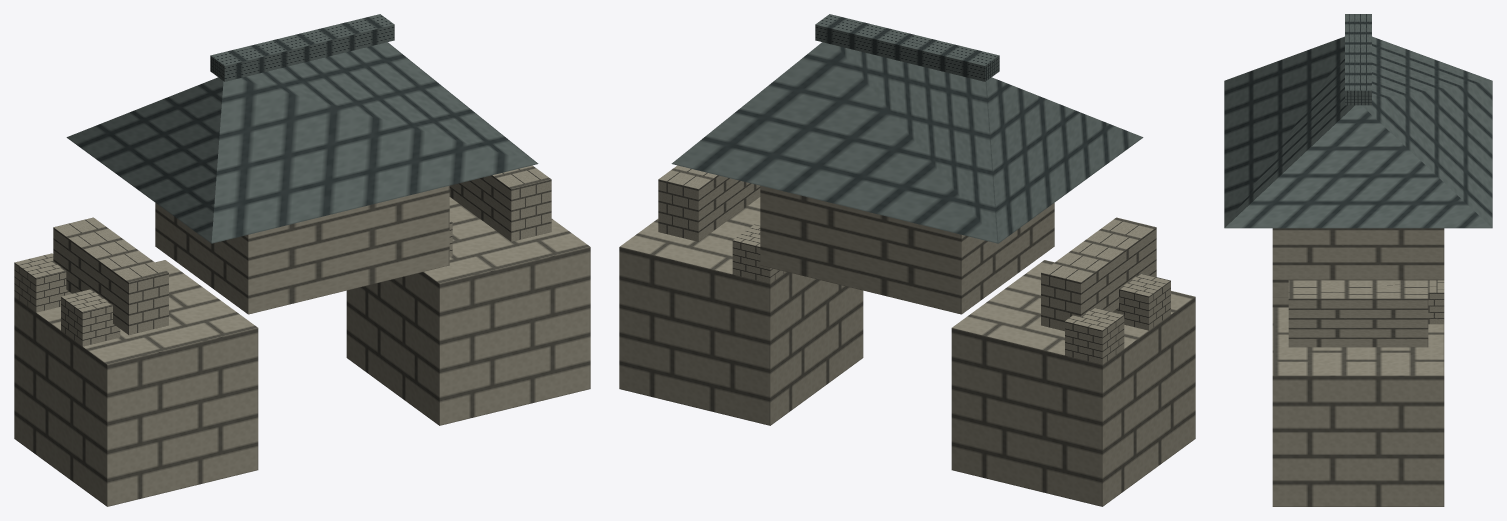
File: gate-lod0.glb
3 renders of one model, left to right at view 1: azimuth 30°, elevation 25°; view 2: azimuth 150°, elevation 25°; view 3: azimuth 270°, elevation 25°, orthographic. The views are drawn at different scales.
Bounding box in the file's own units: 0.96 × 0.71 × 0.5.
Materials: 1 (1 with a texture image).
